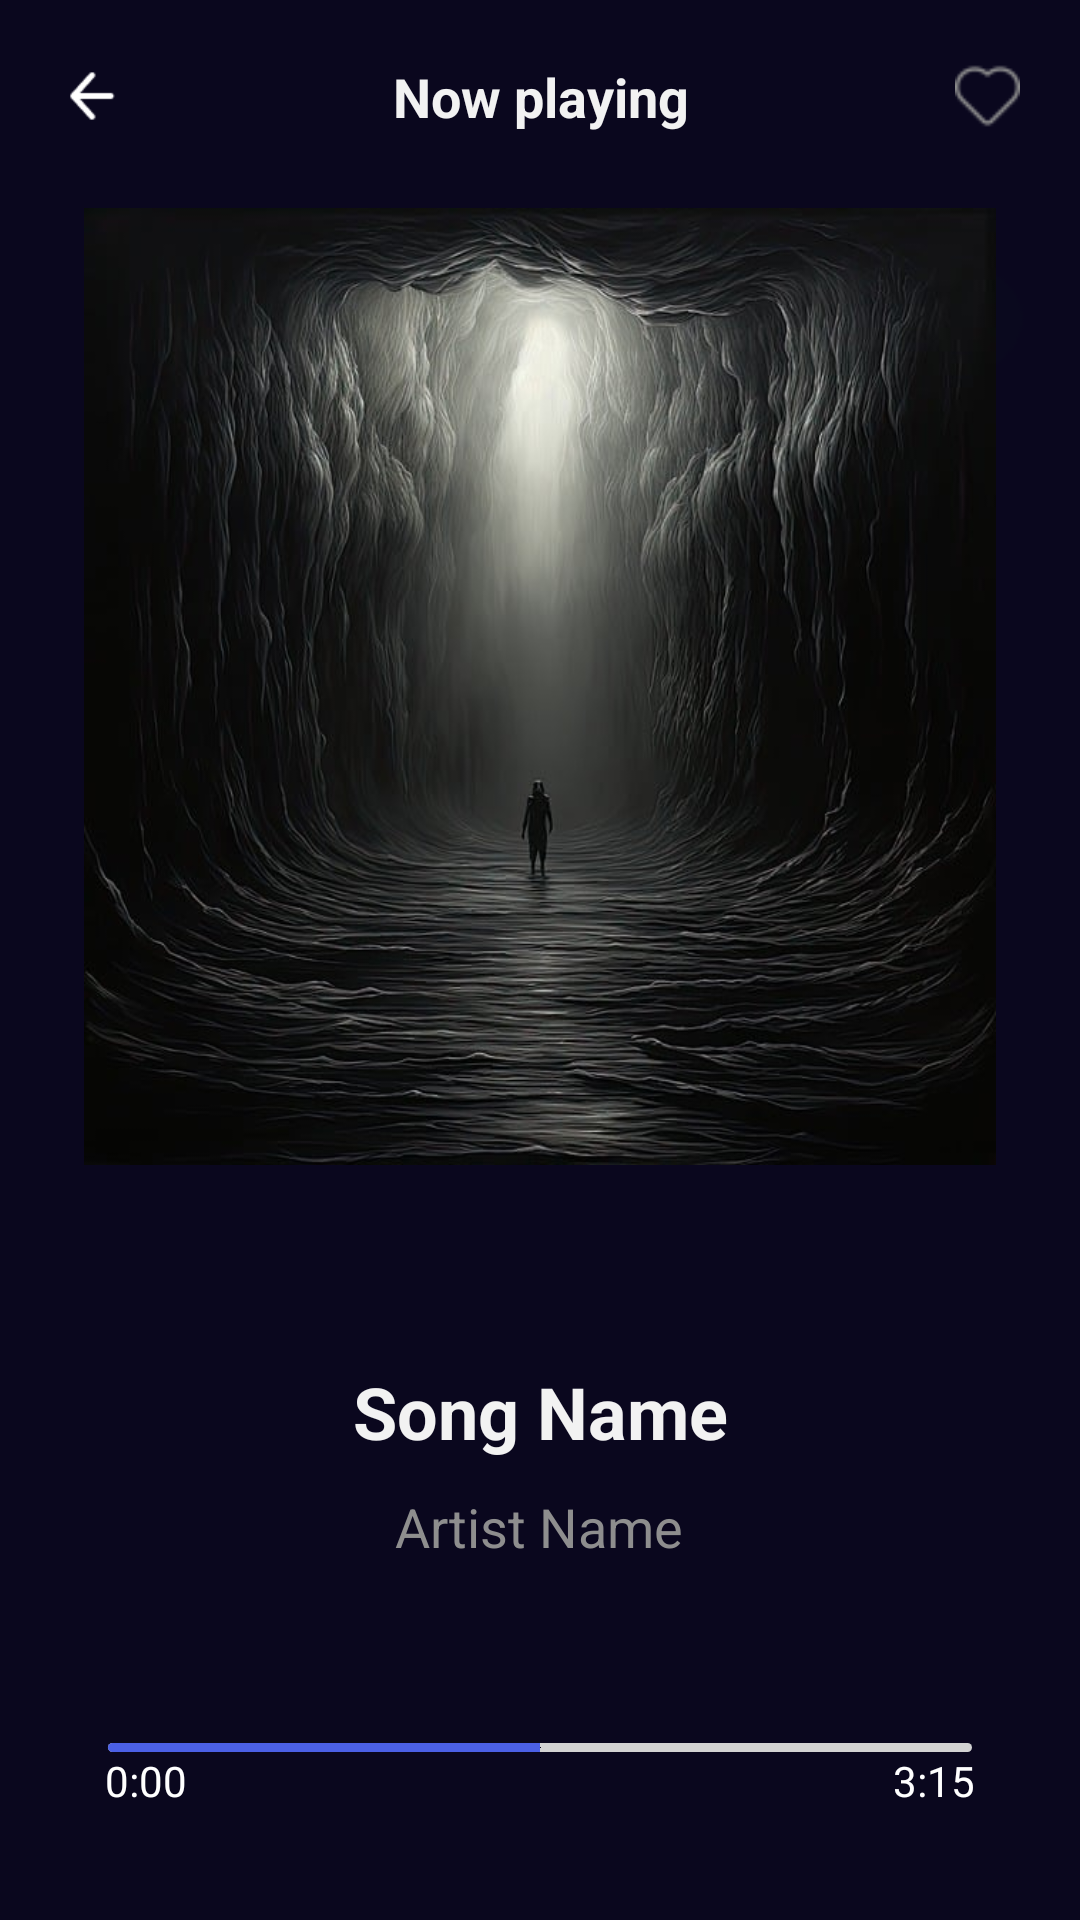

Named icons in this screenshot (1080*1920) and their bounding boxes, (x1, y1, x2, y2):
favourite: (955, 66, 1020, 126)
